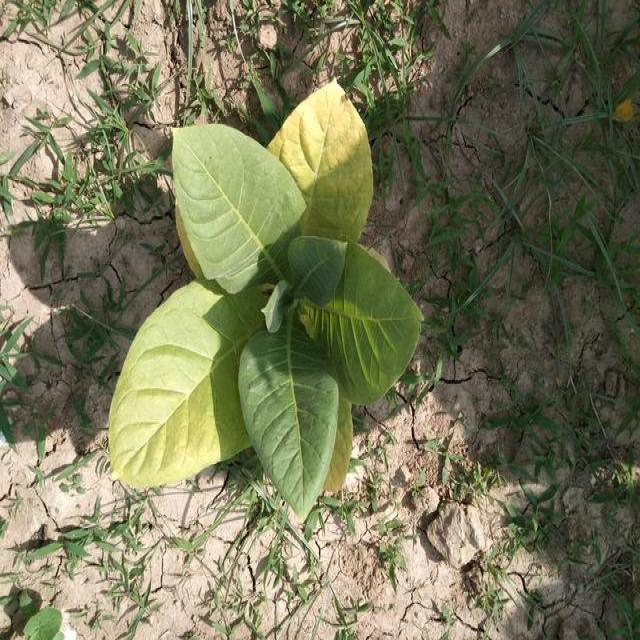crop: (113, 72, 427, 530)
